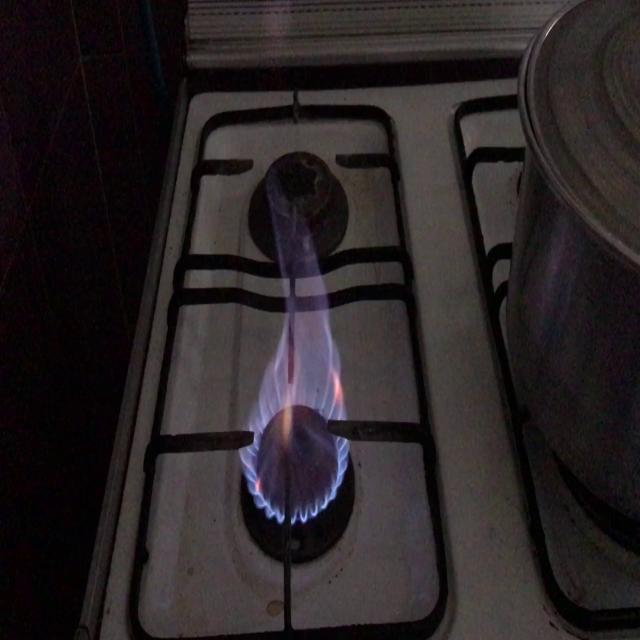fire: (243, 192, 359, 533)
